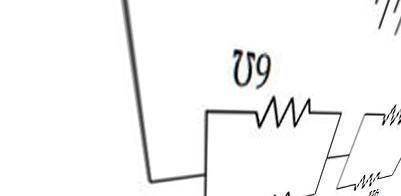resistor: (250, 89, 318, 139)
